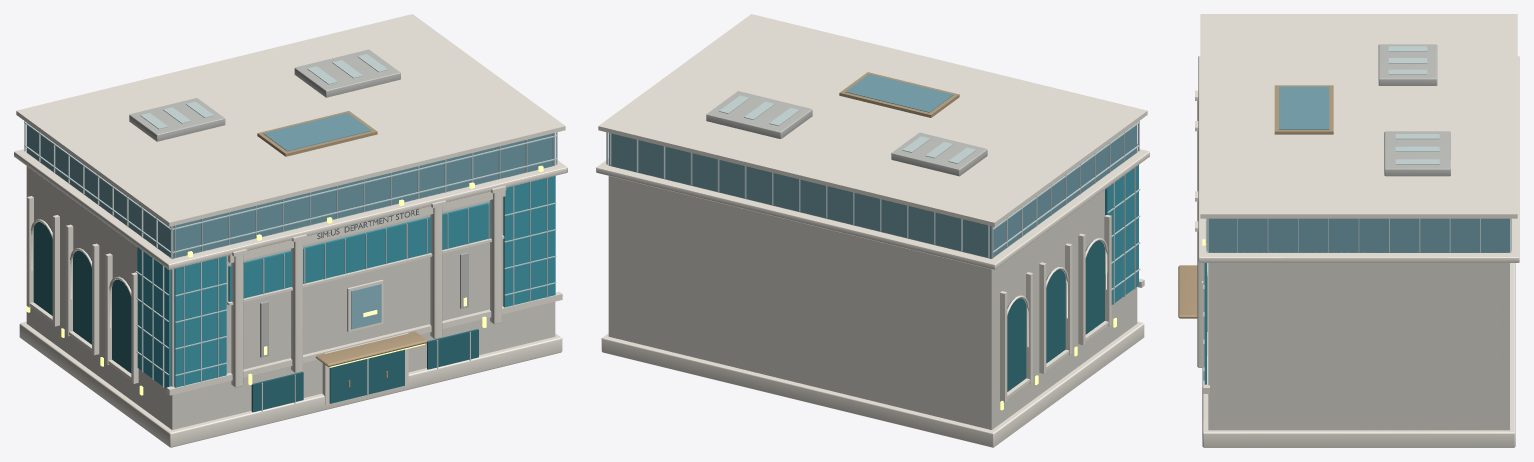
File: SIMUS_Department_Store.glb
3 views of the same model, side by side, from view 1: azimuth 30°, elevation 25°; view 2: azimuth 150°, elevation 25°; view 3: azimuth 270°, elevation 25° (orthographic). The views are drawn at different scales.
Visible parts, largest first — view 1: roof cap, limestone main volume, rooftop glass pavilion, raised base, upper front window ribbon, upper cornice, full height corner glass front, full height corner glass front.001, left glass return, main entrance glass, low rooftop service unit.001, ground floor horizontal course (+25 smaller); view 2: limestone main volume, roof cap, rooftop glass pavilion, raised base, upper cornice, left glass return, low rooftop service unit.001, roof skylight glass, low rooftop service unit, arched left facade window, arched left facade window.001, arched left facade window.002 (+7 smaller); view 3: roof cap, limestone main volume, rooftop glass pavilion, raised base, upper cornice, low rooftop service unit.001, roof skylight glass, low rooftop service unit, triangular canopy base, stone pilaster.003, roof skylight frame, full height corner glass front.001.
Boxes of the visible parts, bbox=[...] form: roof cap: bbox=[16, 14, 565, 226]; limestone main volume: bbox=[26, 153, 555, 429]; rooftop glass pavilion: bbox=[26, 123, 555, 258]; raised base: bbox=[19, 321, 562, 447]; upper front window ribbon: bbox=[228, 202, 490, 301]; upper cornice: bbox=[14, 148, 567, 269]; full height corner glass front: bbox=[174, 256, 226, 387]; full height corner glass front.001: bbox=[503, 176, 555, 307]; left glass return: bbox=[137, 247, 170, 388]; main entrance glass: bbox=[329, 349, 404, 403]; low rooftop service unit.001: bbox=[294, 49, 400, 97]; ground floor horizontal course: bbox=[166, 291, 562, 395]; limestone main volume: bbox=[608, 153, 1137, 429]; roof cap: bbox=[598, 14, 1147, 226]; rooftop glass pavilion: bbox=[608, 123, 1137, 258]; raised base: bbox=[601, 321, 1144, 447]; upper cornice: bbox=[596, 148, 1149, 269]; left glass return: bbox=[1105, 165, 1138, 304]; low rooftop service unit.001: bbox=[706, 91, 812, 138]; roof skylight glass: bbox=[845, 74, 953, 112]; low rooftop service unit: bbox=[891, 132, 987, 176]; arched left facade window: bbox=[1085, 240, 1104, 334]; arched left facade window.001: bbox=[1046, 269, 1065, 363]; arched left facade window.002: bbox=[1007, 298, 1026, 391]; roof cap: bbox=[1200, 14, 1517, 218]; limestone main volume: bbox=[1208, 252, 1509, 430]; rooftop glass pavilion: bbox=[1208, 218, 1509, 252]; raised base: bbox=[1202, 263, 1515, 447]; upper cornice: bbox=[1198, 55, 1519, 262]; low rooftop service unit.001: bbox=[1384, 131, 1450, 176]; roof skylight glass: bbox=[1279, 86, 1329, 129]; low rooftop service unit: bbox=[1378, 44, 1437, 85]; triangular canopy base: bbox=[1178, 265, 1197, 318]; stone pilaster.003: bbox=[1197, 231, 1207, 367]; roof skylight frame: bbox=[1274, 85, 1333, 134]; full height corner glass front.001: bbox=[1204, 263, 1206, 384].
Size of the model in its own units: 24.4 by 13.71 by 17.42.
